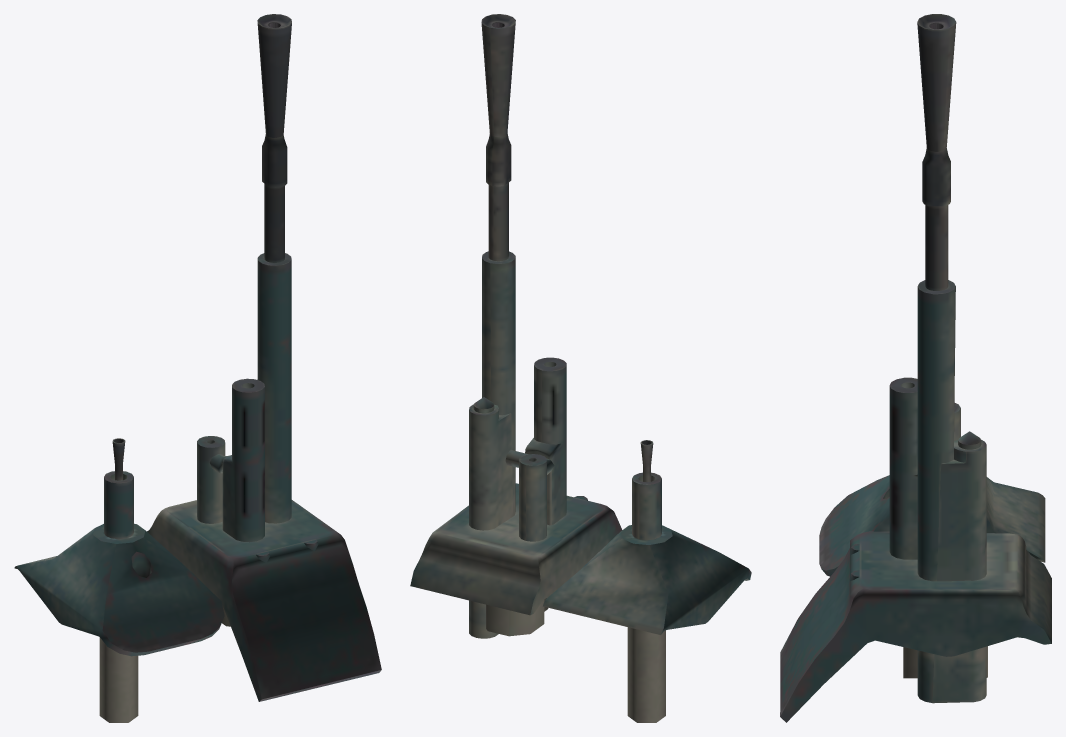
File: Gun_03.glb
3 views of the same model, side by side, from view 1: azimuth 30°, elevation 25°; view 2: azimuth 150°, elevation 25°; view 3: azimuth 270°, elevation 25° (orthographic). The views are drawn at different scales.
Parts seen in each view (by area): view 1: set_0_group_0; view 2: set_0_group_0; view 3: set_0_group_0.
Part boxes in pixels (x1,y1,x2,y2): set_0_group_0: [14, 14, 381, 722]; set_0_group_0: [410, 14, 751, 722]; set_0_group_0: [780, 14, 1051, 722].
Bounding box in the file's own units: 0.5708 × 1.44 × 0.4834.
1 material, 1 textured.
